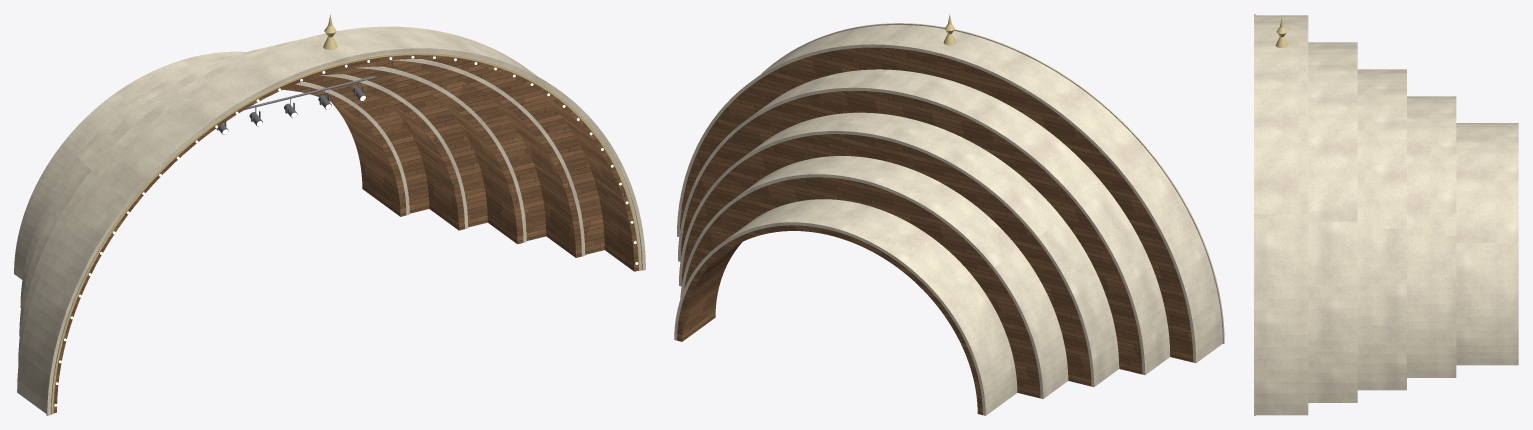
The model's file is shell.glb.
3 views of the same model, side by side, from view 1: azimuth 30°, elevation 25°; view 2: azimuth 150°, elevation 25°; view 3: azimuth 270°, elevation 25° (orthographic). The views are drawn at different scales.
Visible parts, largest first — view 1: shell_render, shell_shell_in, shell_gold, shell_steel_d; view 2: shell_render, shell_shell_in; view 3: shell_render.
Part boxes in pixels (x1,y1,x2,y2): shell_render: [14, 26, 645, 415]; shell_shell_in: [53, 55, 638, 413]; shell_gold: [51, 15, 640, 414]; shell_steel_d: [216, 76, 378, 130]; shell_render: [674, 23, 1224, 415]; shell_shell_in: [677, 47, 1193, 415]; shell_render: [1254, 14, 1518, 415].
Bounding box in the file's own units: 18.08 × 9.15 × 8.07.
Materials: 6 (2 with a texture image).
